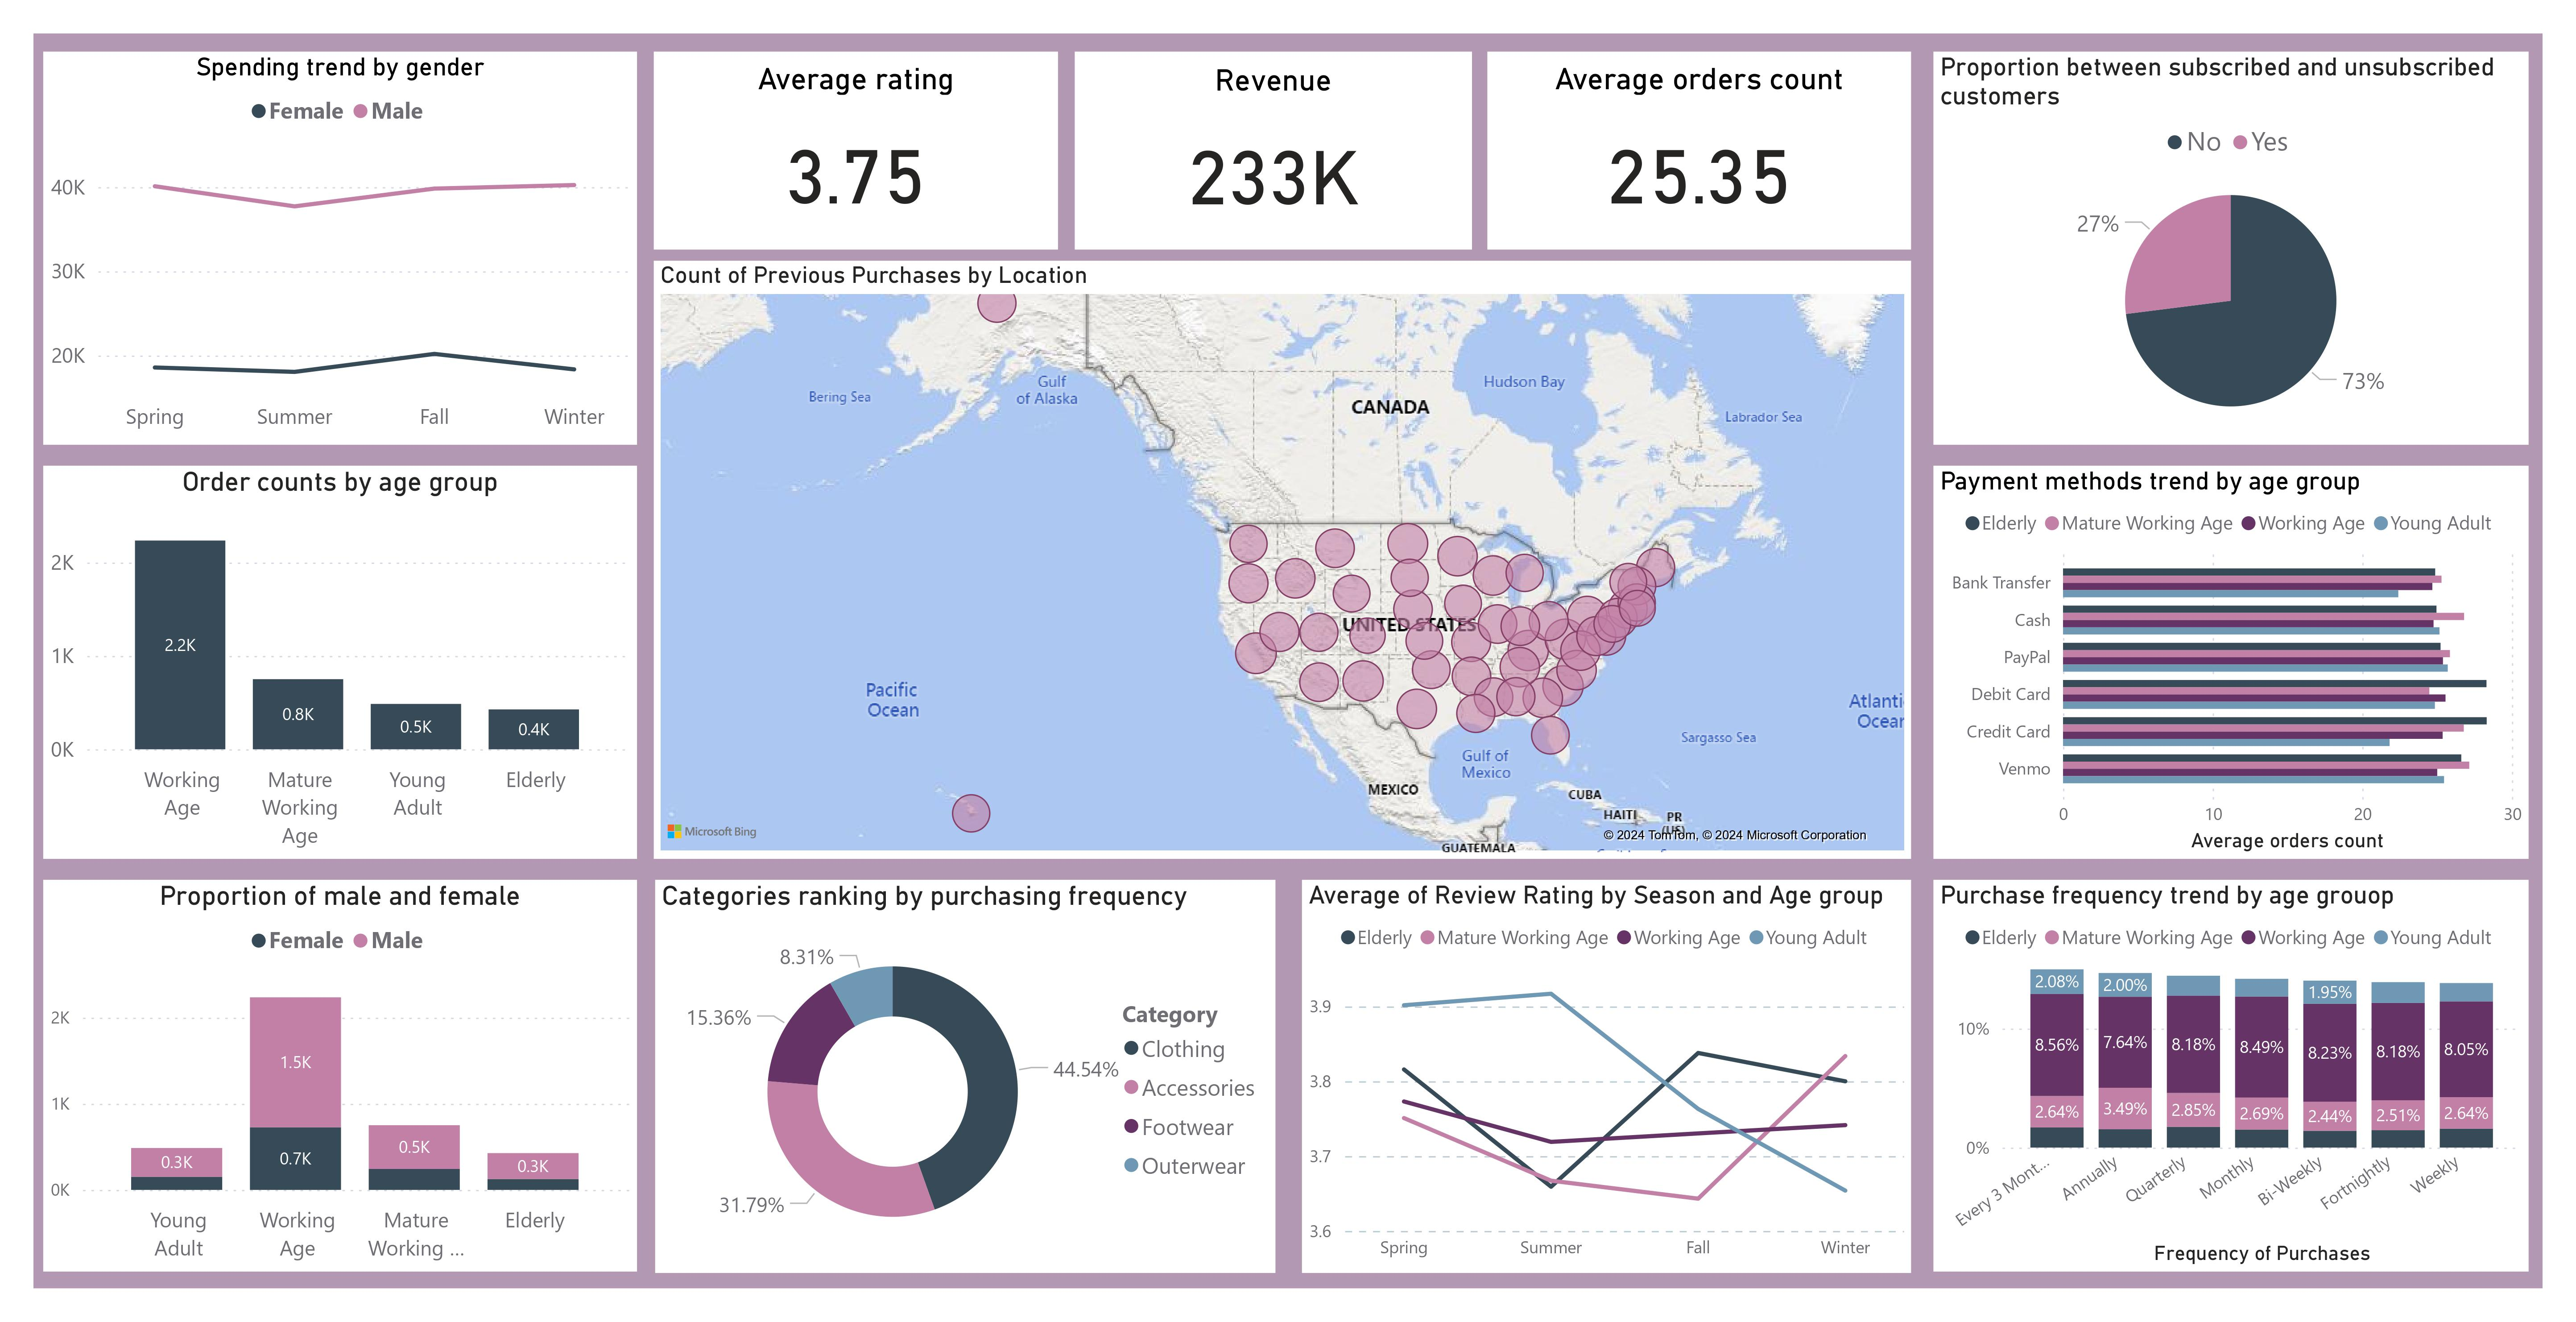

The dashboard page shown, as its layout file describes it:
{"tool":"powerbi","page":{"name":"Final dashboard","canvas":[1800,900],"ordinal":0},"visuals":[{"type":"columnChart","title":"Order counts by age group","fields":{"Category":["sales.Age group"],"Y":["CountNonNull(sales.Purchase Amount)"]},"box":[6.7,310,426.7,281.7],"z":0},{"type":"columnChart","title":"Proportion of male and female ","fields":{"Category":["sales.Age group"],"Y":["CountNonNull(sales.Customer ID)"],"Series":["sales.Gender"]},"box":[6.7,606.7,426.7,281.7],"z":1000},{"type":"lineChart","title":"Spending trend by gender","fields":{"Category":["Sort Table.Season"],"Y":["Sum(sales.Purchase Amount)"],"Series":["sales.Gender"]},"box":[6.7,13.3,426.7,281.7],"z":2000},{"type":"donutChart","title":"Categories ranking by purchasing frequency","fields":{"Category":["sales.Category"],"Y":["CountNonNull(sales.Previous Purchases)"]},"box":[445.7,607.1,445.7,281.4],"z":3000},{"type":"columnChart","title":"Purchase frequency trend by age grouop","fields":{"Category":["sales.Frequency of Purchases"],"Y":["CountNonNull(sales.Customer ID)"],"Series":["sales.Age group"]},"box":[1363.3,606.7,426.7,281.7],"z":4000},{"type":"clusteredBarChart","title":"Payment methods trend by age group","fields":{"Category":["sales.Payment Method"],"Series":["sales.Age group"],"Y":["Avg(sales.Previous Purchases)"]},"box":[1363.3,310,426.7,281.7],"z":5000},{"type":"lineChart","fields":{"Y":["Avg(sales.Review Rating)"],"Category":["Sort Table.Season"],"Series":["sales.Age group"]},"box":[910,607.1,437.1,281.4],"z":6000},{"type":"pieChart","title":"Proportion between subscribed and unsubscribed customers","fields":{"Category":["sales.Subscription Status"],"Y":["Count(sales.Customer ID)"]},"box":[1363.3,13.3,426.7,281.7],"z":7000},{"type":"map","fields":{"Category":["sales.Location"],"Size":["Count(sales.Previous Purchases)"]},"box":[445,163.3,901.7,428.3],"z":8000},{"type":"card","title":"Average rating","fields":{"Values":["Avg(sales.Review Rating)"]},"box":[445,13.3,290,141.7],"z":9000},{"type":"card","title":"Revenue","fields":{"Values":["Sum(sales.Purchase Amount)"]},"box":[746.7,13.3,285,141.7],"z":10000},{"type":"card","title":"Average orders count","fields":{"Values":["Avg(sales.Previous Purchases)"]},"box":[1043.3,13.3,303.3,141.7],"z":11000}]}

Visuals, with their boxes in screenshot pixels (x1, y1, x2, y2):
"Order counts by age group" columnChart: 43,466,637,858
"Proportion of male and female " columnChart: 43,879,637,1272
"Spending trend by gender" lineChart: 43,52,637,445
"Categories ranking by purchasing frequency" donutChart: 655,880,1276,1272
"Purchase frequency trend by age grouop" columnChart: 1934,879,2529,1272
"Payment methods trend by age group" clusteredBarChart: 1934,466,2529,858
lineChart - Avg(sales.Review Rating) x Sort Table.Season: 1302,880,1911,1272
"Proportion between subscribed and unsubscribed customers" pieChart: 1934,52,2529,445
map - sales.Location x Count(sales.Previous Purchases): 654,261,1910,858
"Average rating" card: 654,52,1058,249
"Revenue" card: 1074,52,1472,249
"Average orders count" card: 1488,52,1910,249
